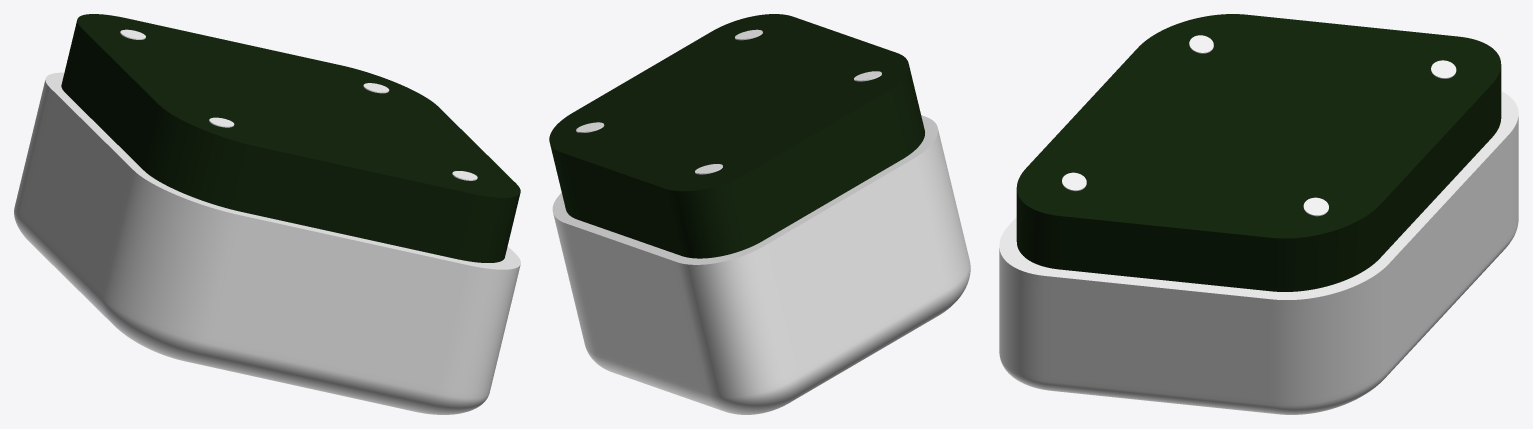
The model's file is Bumper-losange2.glb.
3 views of the same model, side by side, from view 1: azimuth 30°, elevation 25°; view 2: azimuth 150°, elevation 25°; view 3: azimuth 270°, elevation 25° (orthographic). The views are drawn at different scales.
Parts seen in each view (by area): view 1: Cube_6_8_Mat.1_0, Cube_4_6_Mat.16_0; view 2: Cube_6_8_Mat.1_0, Cube_4_6_Mat.16_0; view 3: Cube_4_6_Mat.16_0, Cube_6_8_Mat.1_0.
Boxes of the visible parts, <box> form: Cube_6_8_Mat.1_0: <box>14,72,520,414</box>; Cube_4_6_Mat.16_0: <box>61,14,520,262</box>; Cube_6_8_Mat.1_0: <box>552,115,970,414</box>; Cube_4_6_Mat.16_0: <box>549,14,924,258</box>; Cube_4_6_Mat.16_0: <box>1016,14,1501,291</box>; Cube_6_8_Mat.1_0: <box>999,91,1518,414</box>.
Size of the model in its own units: 0.3179 by 0.2507 by 0.4086.
